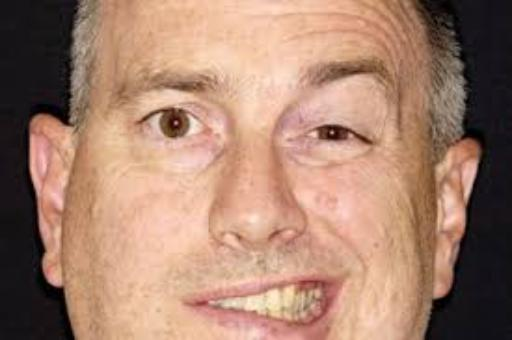left_eye: (289, 124, 373, 151)
left_lip_corner: (321, 272, 363, 294)
right_eye: (130, 112, 216, 146)
right_lip_corner: (179, 295, 212, 317)
